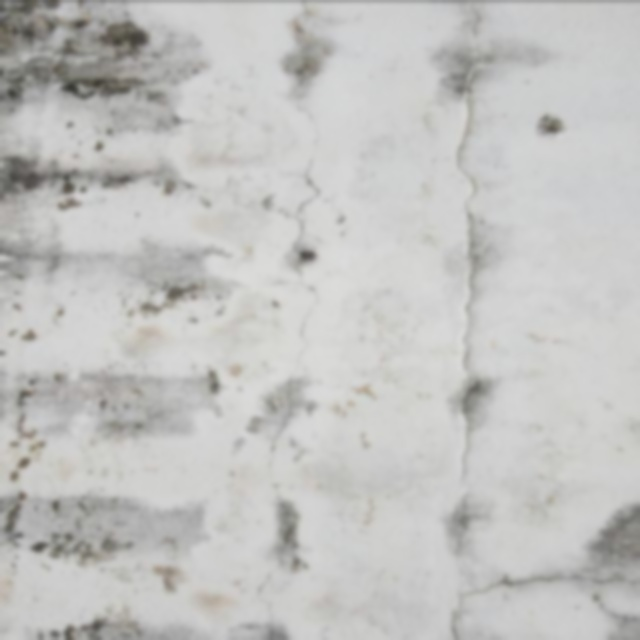SurfaceCrack: (190, 1, 378, 640), (412, 2, 536, 640)
